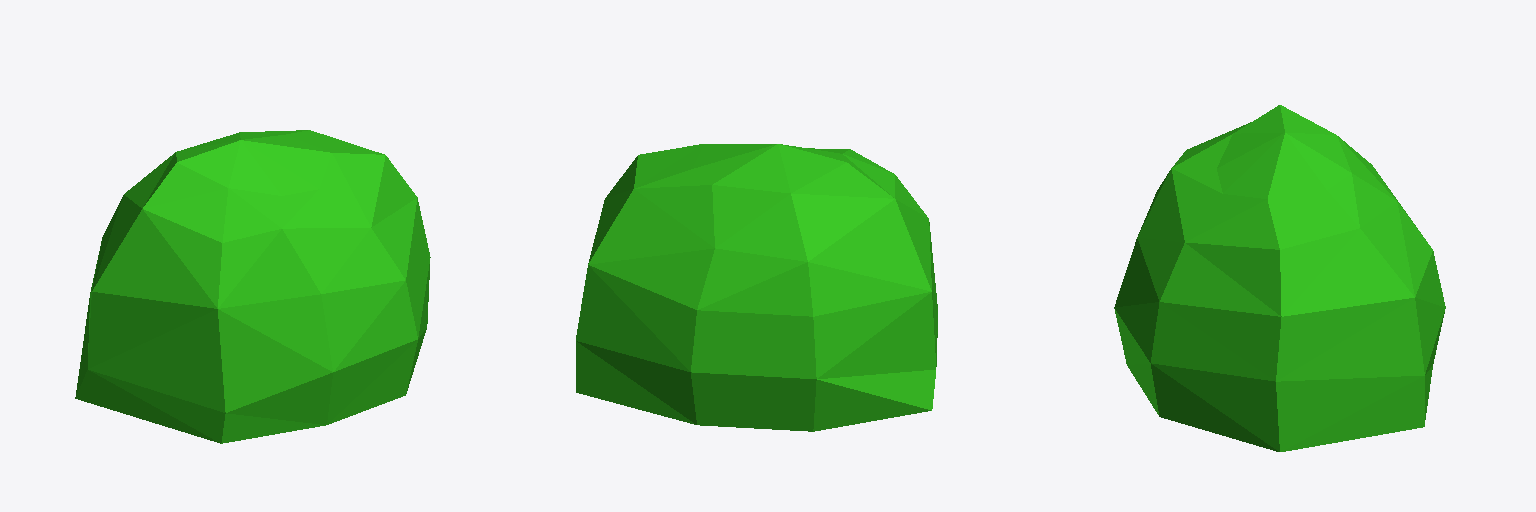
Rendered from bush_1.obj.
The picture shows the model from 3 angles: view 1: azimuth 30°, elevation 25°; view 2: azimuth 150°, elevation 25°; view 3: azimuth 270°, elevation 25°; orthographic projection.
Visible parts, largest first — view 1: Sphere; view 2: Sphere; view 3: Sphere.
Part boxes in pixels (x1,y1,x2,y2): Sphere: (75, 130, 430, 443); Sphere: (576, 144, 937, 431); Sphere: (1114, 105, 1445, 451).
Size of the model in its own units: 5.86 by 3.8 by 4.87.